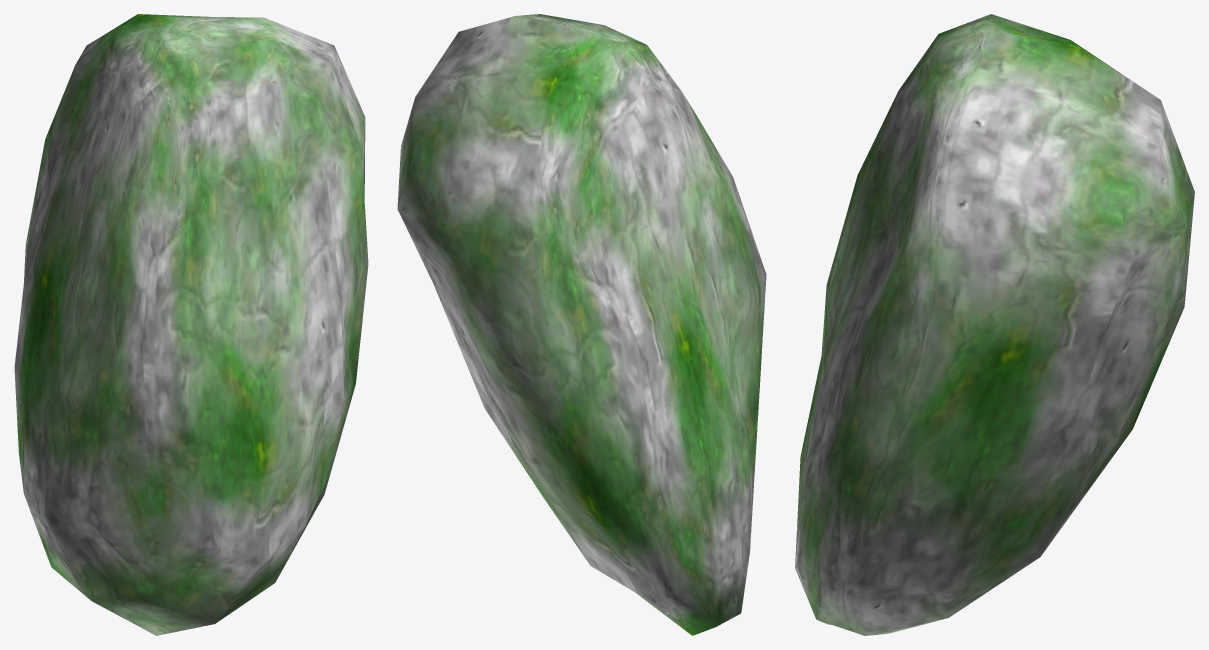
The model's file is INST_HTOWN_ROCKE.fbx.
3 renders of one model, left to right at view 1: azimuth 30°, elevation 25°; view 2: azimuth 150°, elevation 25°; view 3: azimuth 270°, elevation 25°, orthographic. The views are drawn at different scales.
Parts seen in each view (by area): view 1: INST_HTOWN_ROCKE; view 2: INST_HTOWN_ROCKE; view 3: INST_HTOWN_ROCKE.
Boxes of the visible parts, x1,y1,x2,y2 form: INST_HTOWN_ROCKE: [14, 14, 368, 635]; INST_HTOWN_ROCKE: [397, 14, 766, 635]; INST_HTOWN_ROCKE: [795, 14, 1194, 635].
Size of the model in its own units: 15130 by 26983 by 15130.
1 material, 1 textured.
